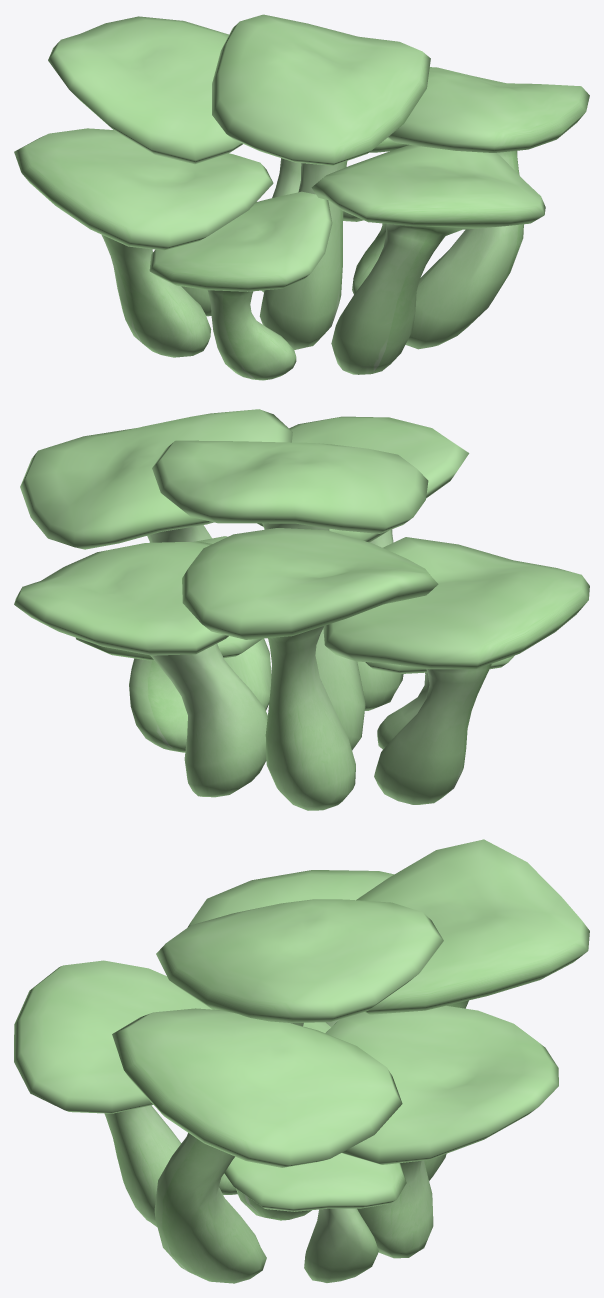
The model's file is MushroomGroup.fbx.
3 views of the same model, one above another, from view 1: azimuth 30°, elevation 25°; view 2: azimuth 150°, elevation 25°; view 3: azimuth 270°, elevation 25° (orthographic). The views are drawn at different scales.
Visible parts, largest first — view 1: MushroomGroup; view 2: MushroomGroup; view 3: MushroomGroup.
Part boxes in pixels (bbox=[...]): MushroomGroup: bbox=[14, 14, 589, 380]; MushroomGroup: bbox=[14, 409, 589, 810]; MushroomGroup: bbox=[14, 839, 589, 1283].
Size of the model in its own units: 40.68 by 21.6 by 35.38.
